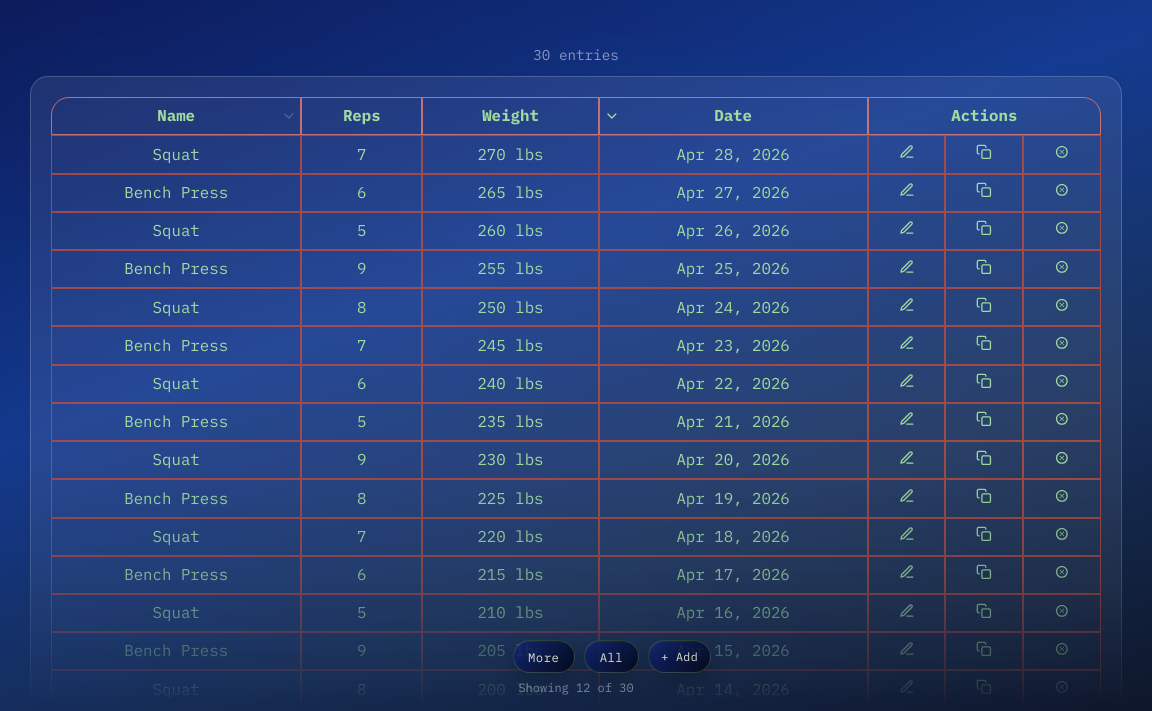
ExerciseTable › reveals less in-place after more is clicked and updates the count
The image size is (1152, 711).
Click the button "More" at (544, 657), box [513,640,575,673]
(page scrolled)
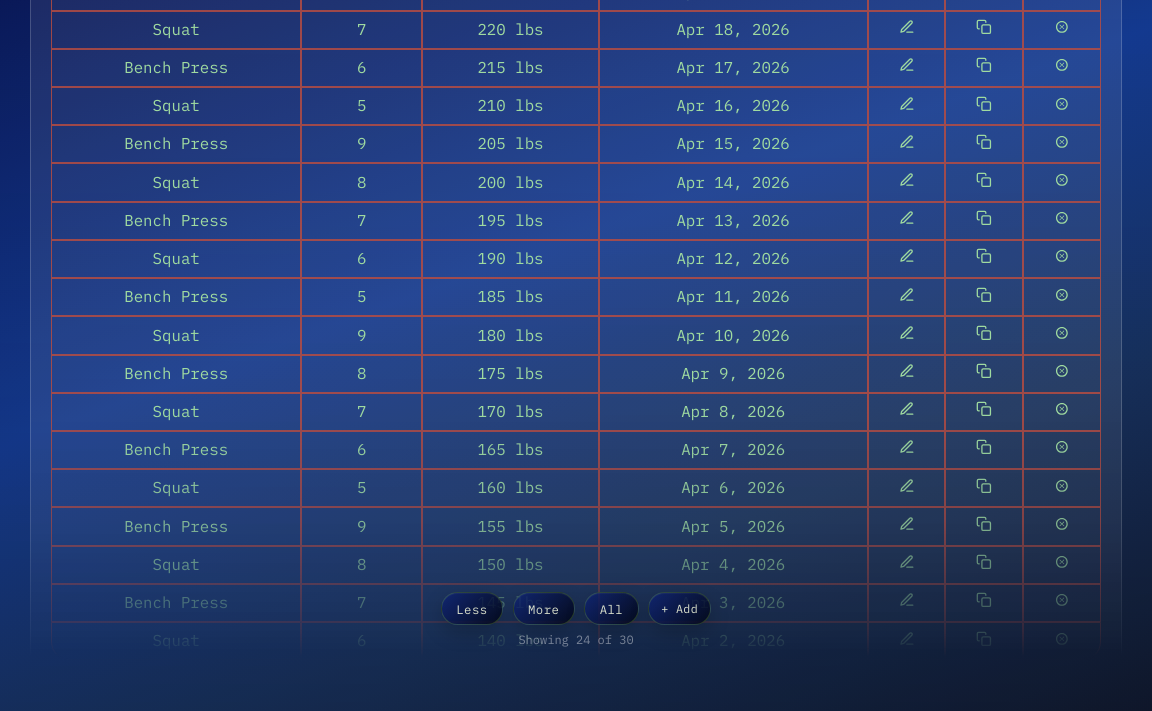
Expected: the button "Less" is shown, [441,592,503,625]
Expected: the text "Showing 24 of 30" is shown, [518,631,634,649]
